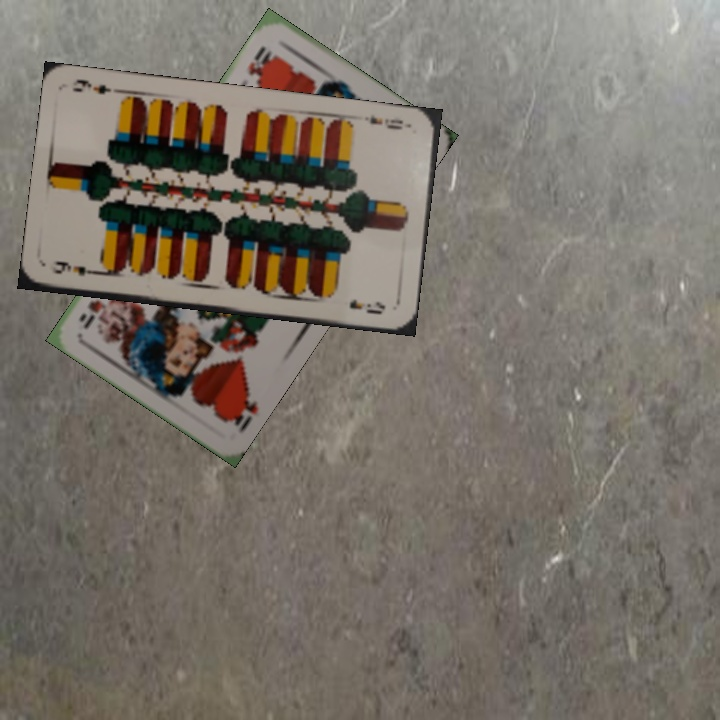E9: (46, 257, 104, 278), (366, 112, 405, 133)
HO: (222, 383, 261, 429), (244, 42, 278, 86)
